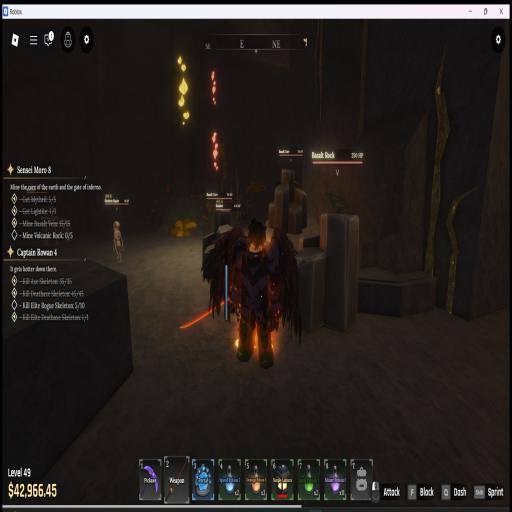player: (202, 219, 301, 368)
rock: (320, 214, 359, 332), (268, 169, 307, 234), (296, 247, 326, 331), (203, 210, 231, 263), (299, 235, 320, 250)
